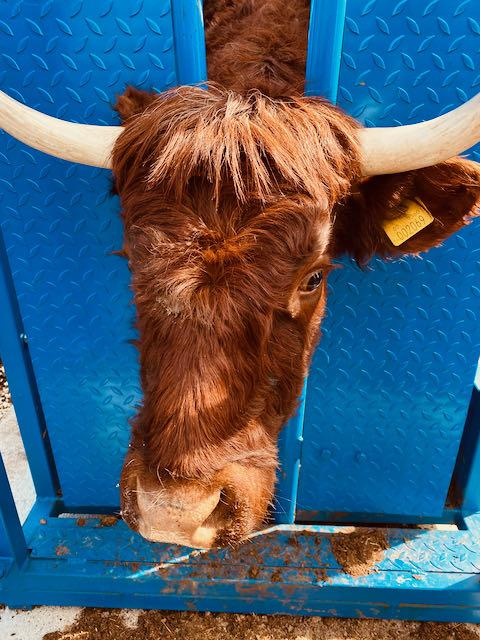muzzles: (110, 459, 253, 557)
